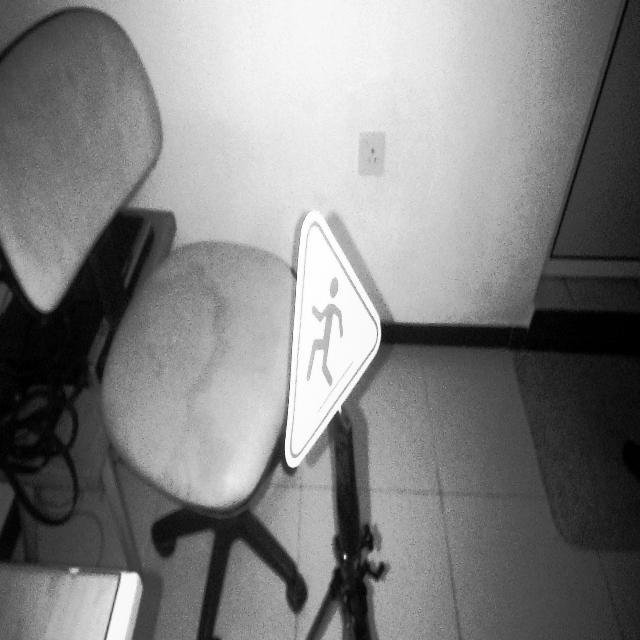Sign: (283, 209, 383, 472)
